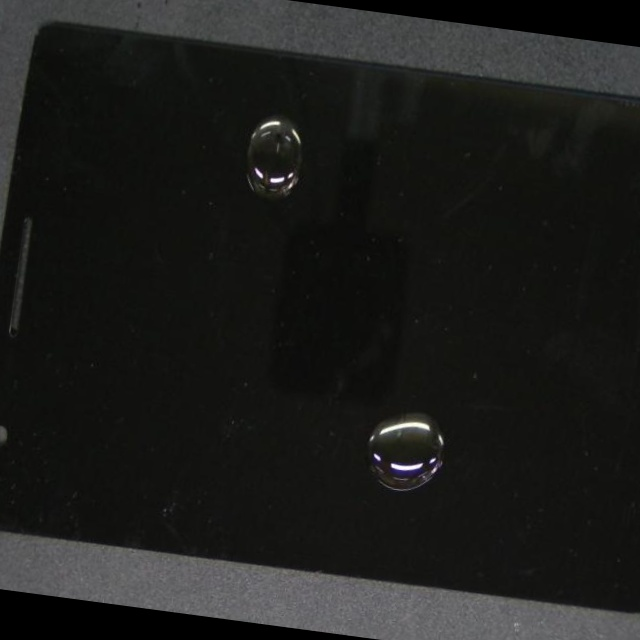oil: (160, 186, 636, 640), (157, 75, 453, 221)
